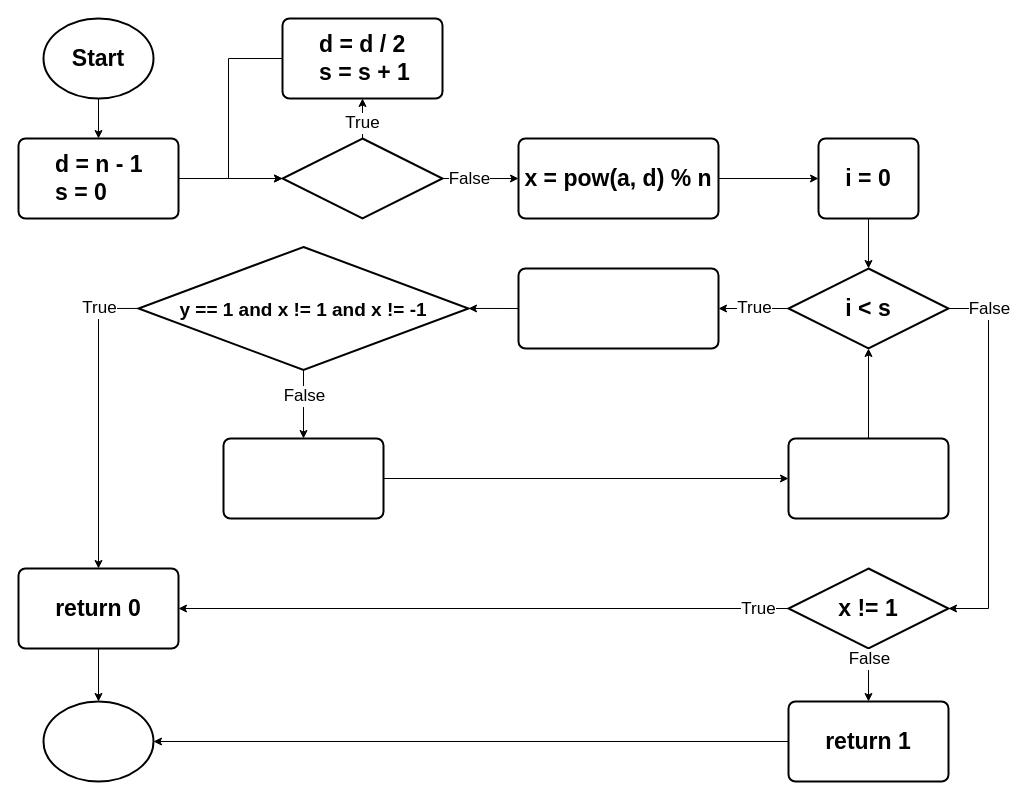
The diagram is 1027 pixels wide and 799 high, and some of its shapes have lost their labels. The centre of each missing label's shape, as x and y in pixels:
d % 2 == 0: point (362, 178)
End: point (98, 741)
i = i + 1: point (868, 478)
x = y: point (303, 478)
y = pow(x, 2) % n: point (618, 308)
